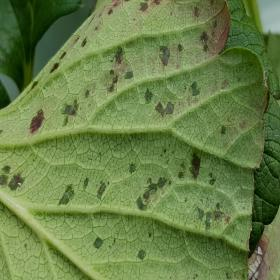Angular Leafspot: (0, 0, 270, 279), (249, 206, 279, 279)
